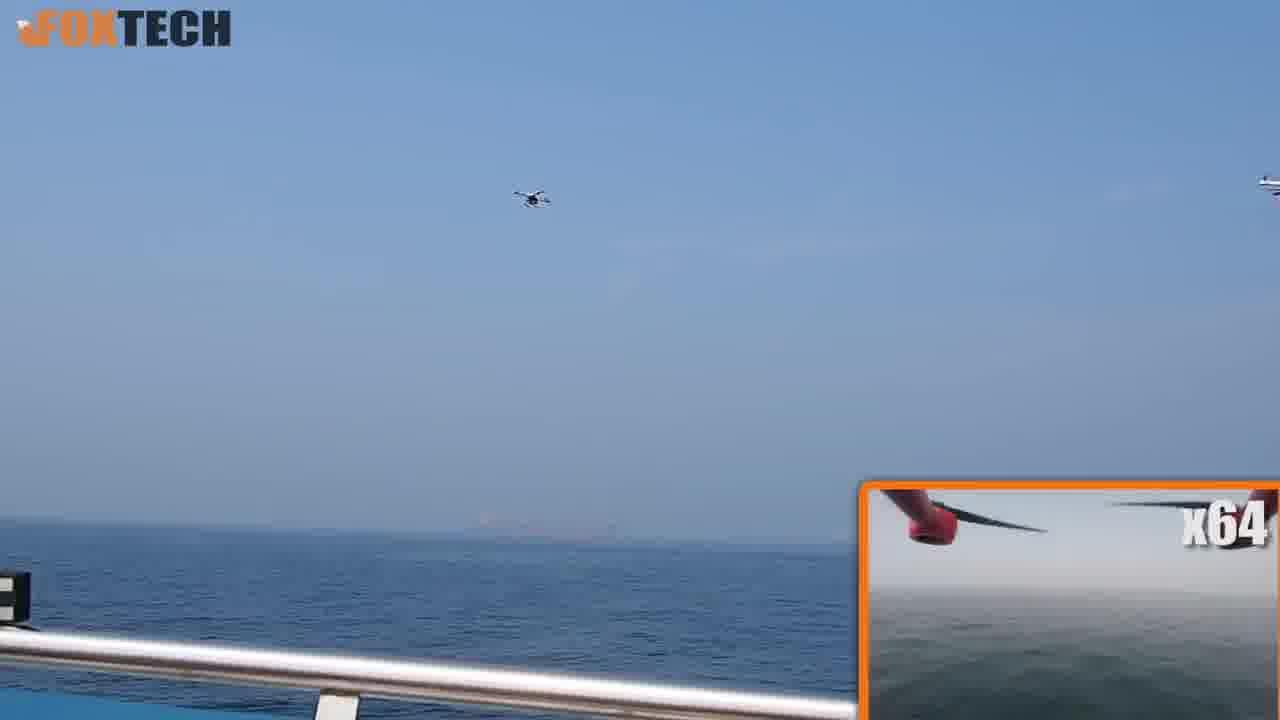drone: (504, 175, 554, 220)
